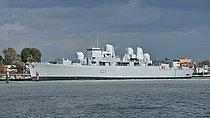MIL_Ship: (25, 42, 195, 78)
